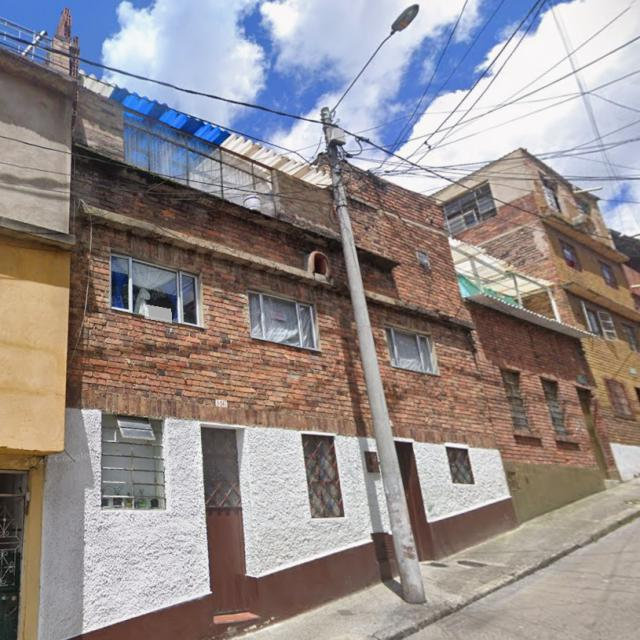fachada: (0, 12, 394, 639), (40, 78, 392, 639), (436, 150, 639, 480), (0, 23, 76, 639), (450, 238, 603, 521), (611, 230, 639, 311)
poste: (322, 108, 425, 603)
